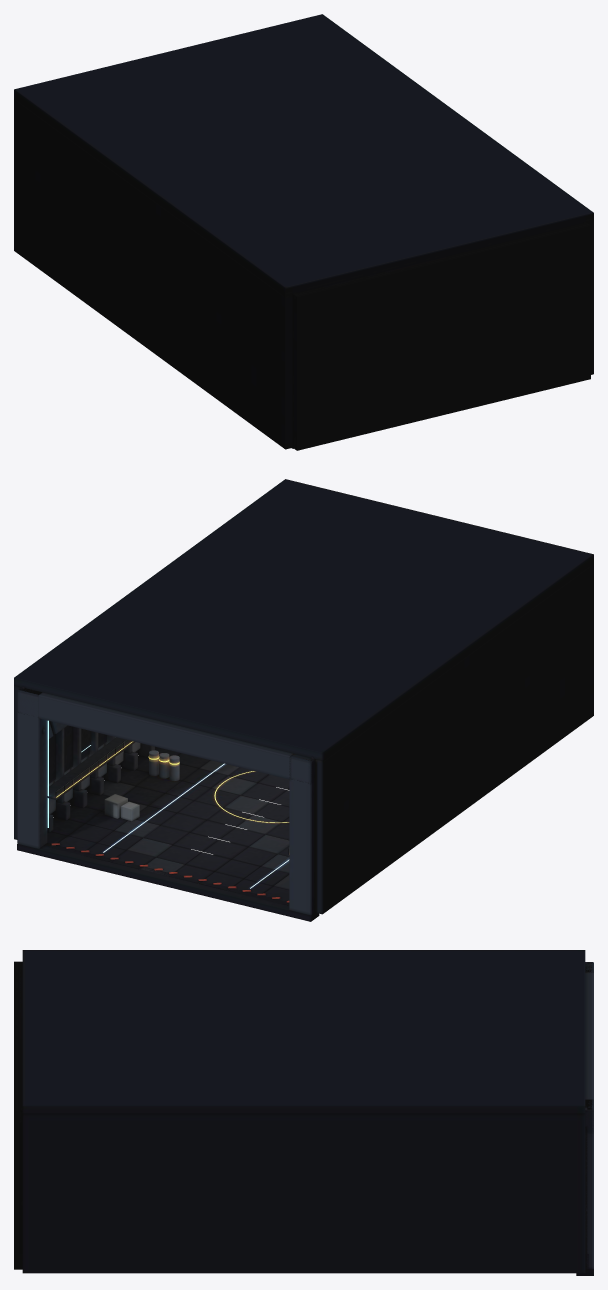
File: hangar.glb
3 views of the same model, one above another, from view 1: azimuth 30°, elevation 25°; view 2: azimuth 150°, elevation 25°; view 3: azimuth 270°, elevation 25° (orthographic). The views are drawn at different scales.
Visible parts, largest first — view 1: HANGAR; view 2: HANGAR, EMISSIVE; view 3: HANGAR.
Part boxes in pixels (bbox=[...]): HANGAR: bbox=[14, 14, 593, 450]; HANGAR: bbox=[14, 479, 593, 921]; EMISSIVE: bbox=[47, 720, 289, 888]; HANGAR: bbox=[14, 950, 593, 1275].
Size of what is drawn, in the model's own units: 42 by 21.8 by 66.
5 materials, 1 textured.
